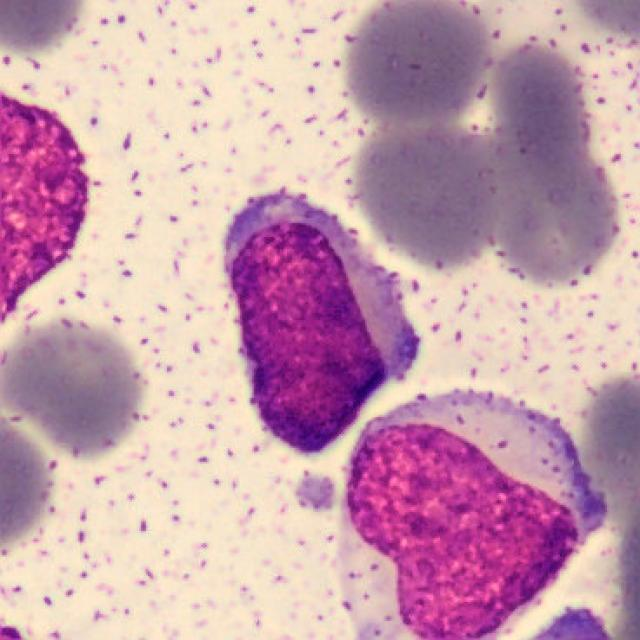Mieloblasto: (346, 391, 607, 640), (223, 194, 416, 453), (0, 92, 90, 327)
